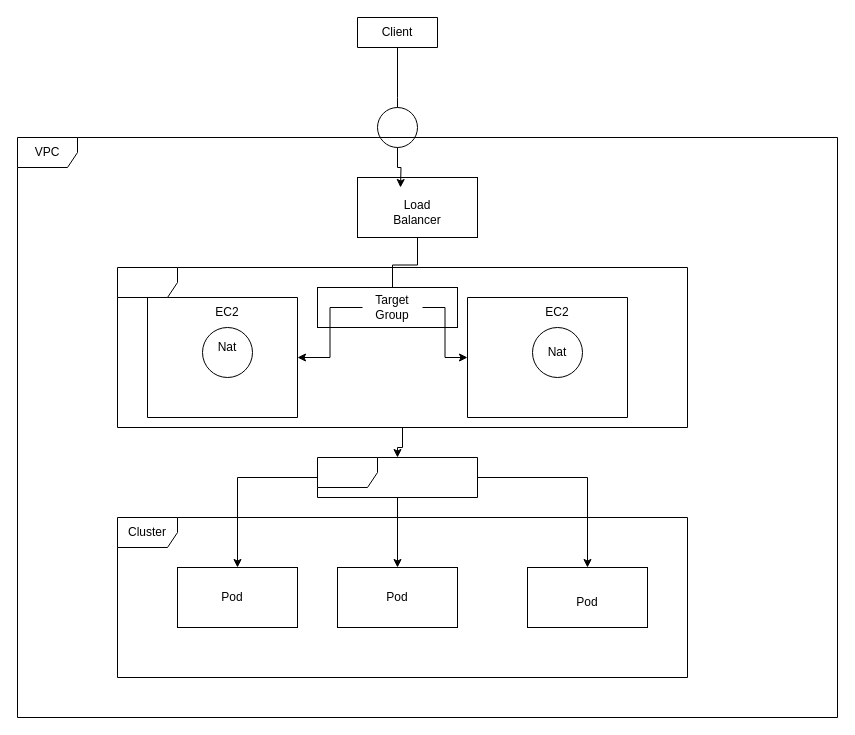
The diagram is 855 pixels wide and 735 high, and some of its shapes have lost their labels. Here are the shapes that lost their labels. From the top down, the centre of each, then its label:
the point at 397,127: IG
the point at 402,347: Public
the point at 397,477: Controller
